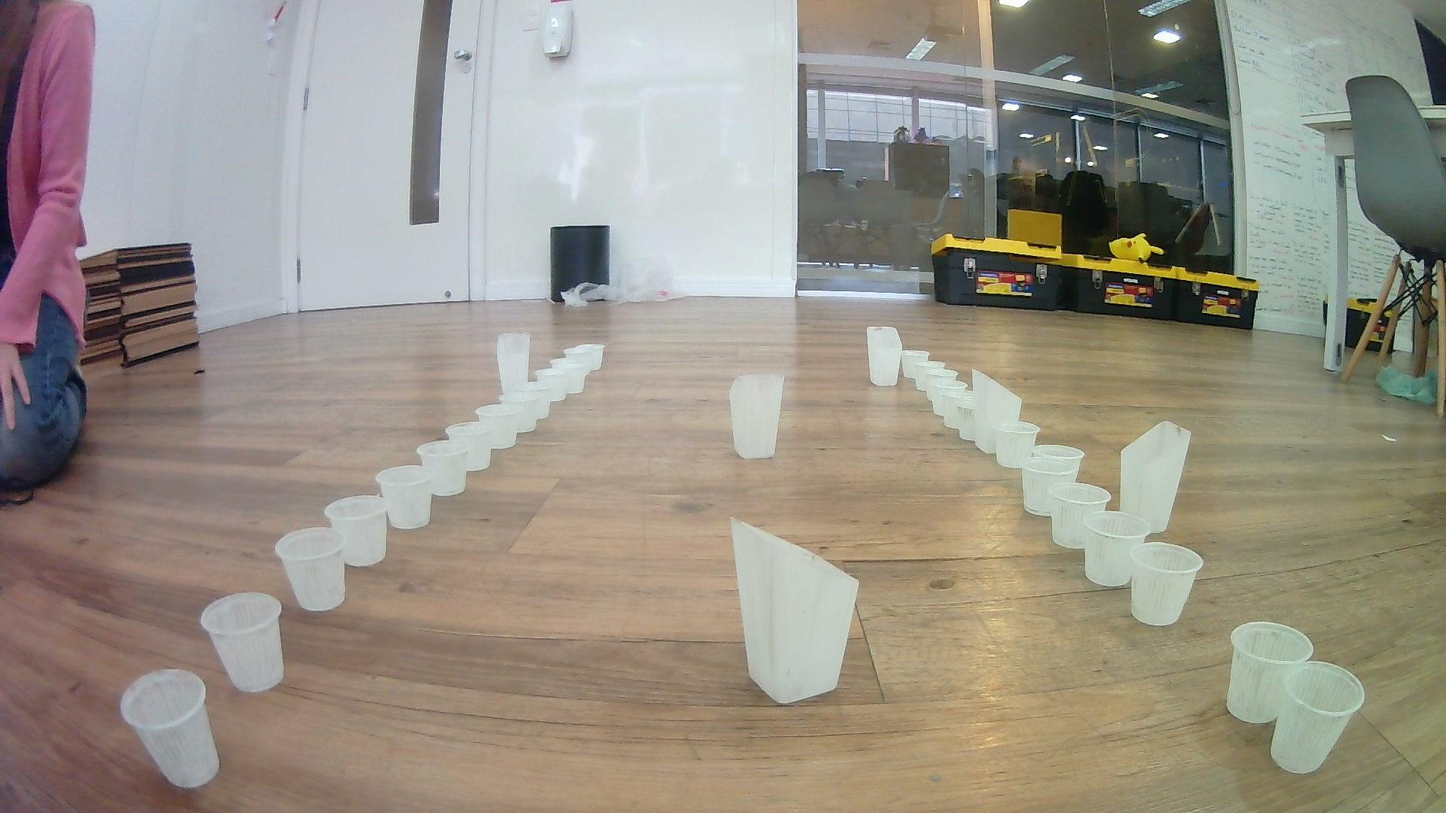erva_daninha: (729, 516, 861, 705), (1118, 420, 1193, 536), (729, 372, 786, 460), (971, 370, 1023, 455), (865, 326, 903, 387), (496, 331, 532, 395)
planta: (119, 668, 220, 789), (1270, 661, 1365, 775), (1226, 621, 1313, 724), (200, 592, 285, 693), (273, 526, 347, 613), (1129, 542, 1204, 626), (1082, 510, 1150, 587), (324, 495, 389, 567), (1048, 483, 1112, 550), (375, 465, 436, 530), (1022, 455, 1078, 516), (416, 440, 468, 497), (444, 422, 491, 473), (993, 421, 1041, 469), (1030, 444, 1086, 484), (474, 403, 519, 449), (497, 391, 539, 433), (515, 382, 552, 420), (550, 359, 587, 394), (932, 380, 966, 416), (535, 369, 572, 402), (944, 390, 975, 429), (924, 369, 959, 402), (562, 351, 597, 382), (569, 343, 605, 372), (913, 361, 946, 391), (901, 350, 929, 379), (959, 400, 977, 441)
